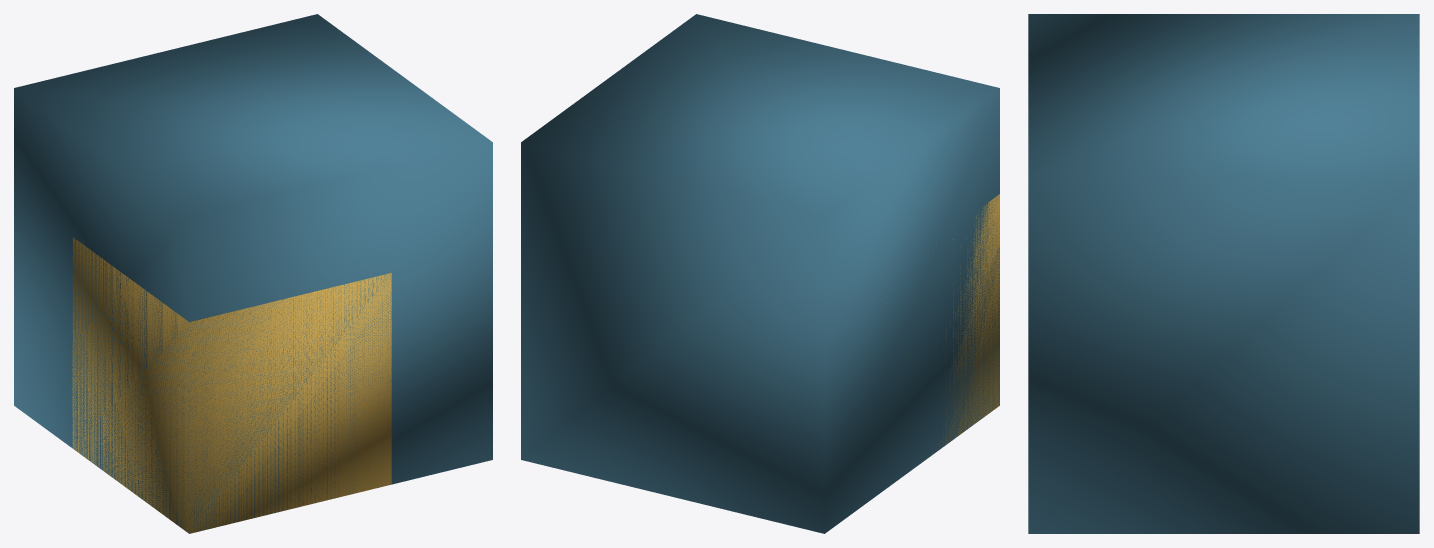
The model's file is named-materials.glb.
The picture shows the model from 3 angles, left to right: view 1: azimuth 30°, elevation 25°; view 2: azimuth 150°, elevation 25°; view 3: azimuth 270°, elevation 25°; orthographic projection. The views are drawn at different scales.
Parts seen in each view (by area): view 1: body, fastener; view 2: body, fastener; view 3: body.
Part boxes in pixels (x1,y1,x2,y2): body: [14, 14, 492, 533]; fastener: [72, 237, 391, 533]; body: [521, 14, 999, 533]; fastener: [937, 194, 999, 448]; body: [1028, 14, 1419, 533].
Bounding box in the file's own units: 18 × 18 × 18.
